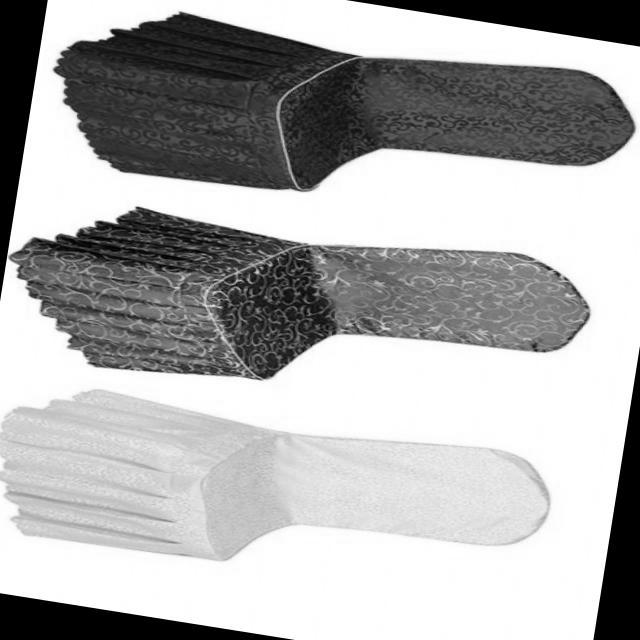chair: (0, 172, 621, 446), (36, 0, 640, 258), (0, 367, 566, 622)
